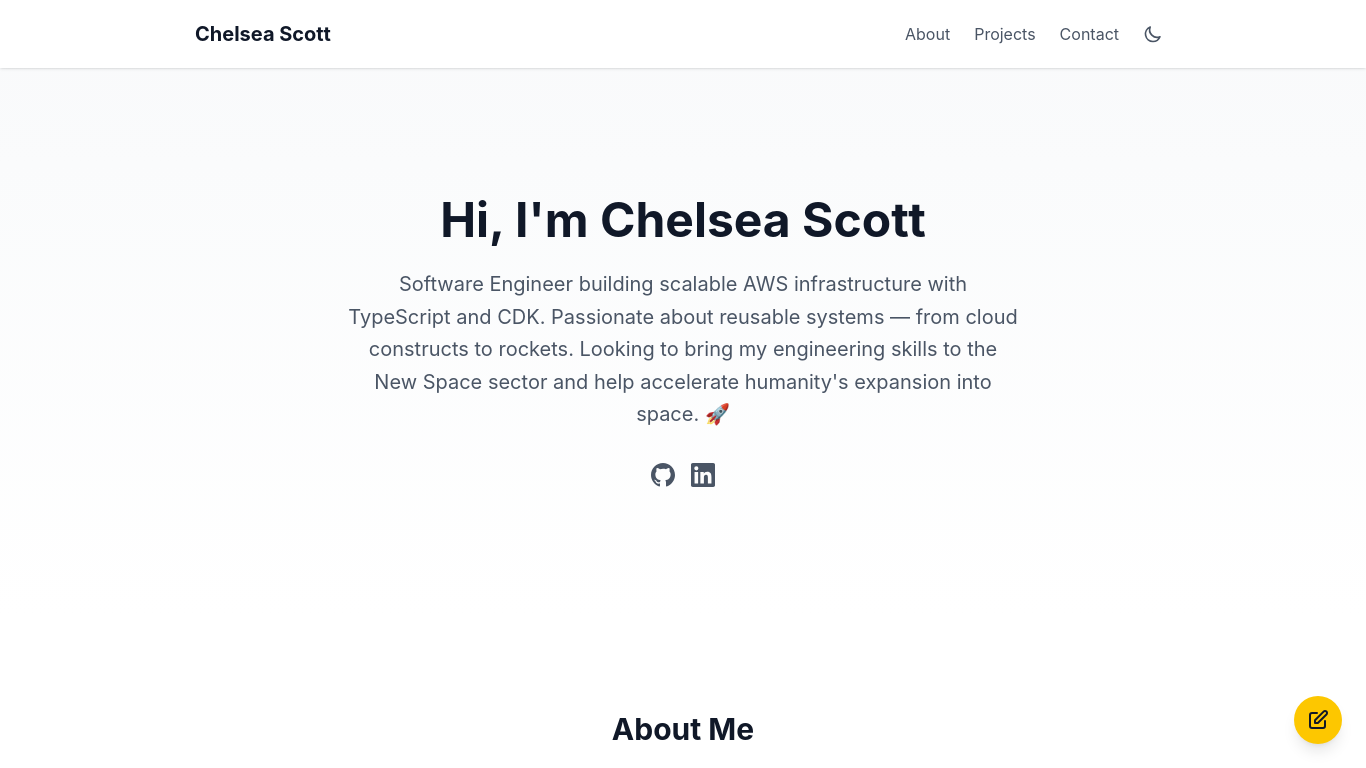
Test: App › opens the sticky note modal when clicked
Click the button named "Open sticky note" at (1318, 720), box [1294,696,1342,744]
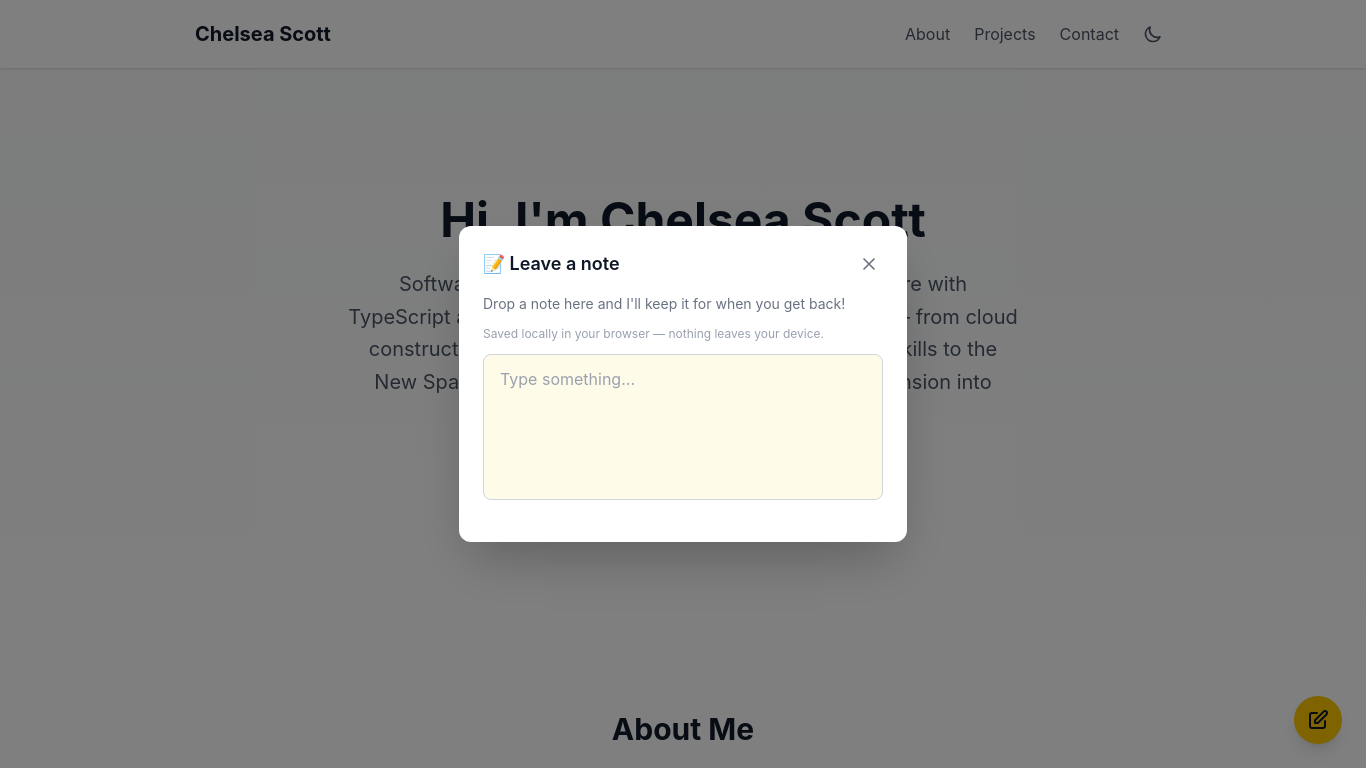
Result: the dialog named "Sticky note" is shown
Result: the text "Drop a note here and I'll keep it for when you get back!" is shown at [483,294,883,314]
